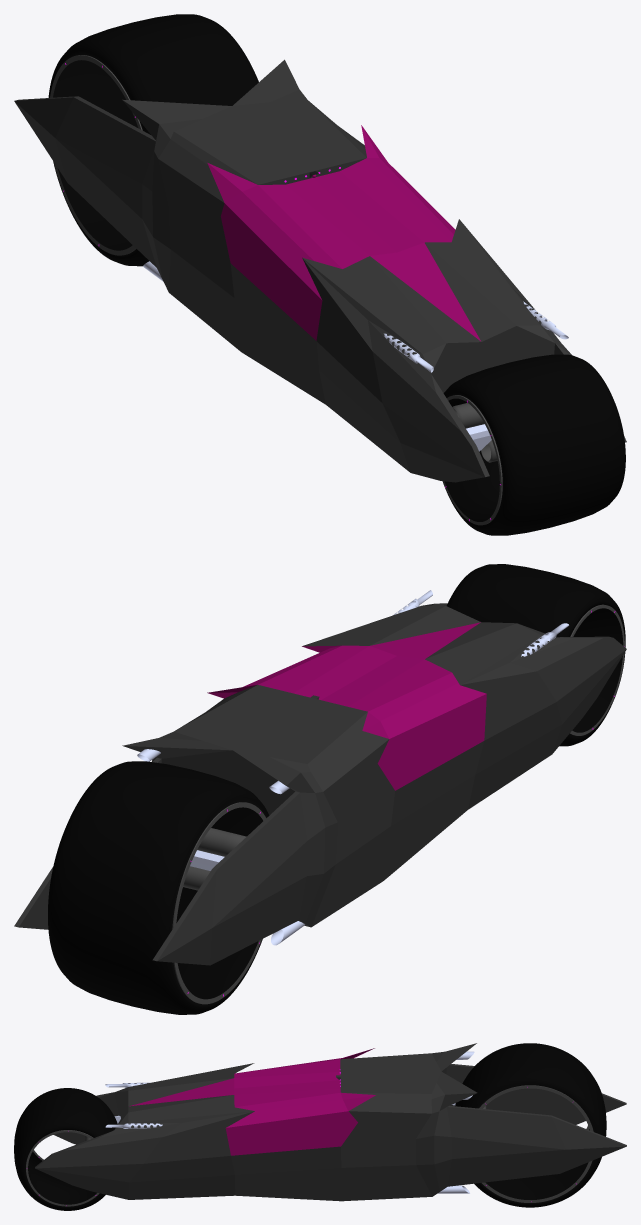
The model's file is Bike_P4.glb.
3 views of the same model, one above another, from view 1: azimuth 30°, elevation 25°; view 2: azimuth 150°, elevation 25°; view 3: azimuth 270°, elevation 25° (orthographic). The views are drawn at different scales.
Parts seen in each view (by area): view 1: Chassis, Tire_Front, Tire_Rear, Wheel_Well_Front.002, Guns, Wheel_Well_Front, Drive_Train_Cyl_F; view 2: Chassis, Tire_Rear, Tire_Front, Wheel_Well_Front.002, Drive_Train_Cyl_R, Exhausts, Guns; view 3: Chassis, Tire_Rear, Tire_Front, Wheel_Well_Front.002, Wheel_Well_Front, Guns, Exhausts.
Part boxes in pixels (<box>): Chassis: <box>14,59,626,482</box>; Tire_Front: <box>442,354,625,535</box>; Tire_Rear: <box>48,14,258,266</box>; Wheel_Well_Front.002: <box>50,55,142,255</box>; Guns: <box>384,301,568,372</box>; Wheel_Well_Front: <box>443,395,502,525</box>; Drive_Train_Cyl_F: <box>452,403,497,462</box>; Chassis: <box>14,603,626,965</box>; Tire_Rear: <box>48,761,269,1014</box>; Tire_Front: <box>446,564,625,746</box>; Wheel_Well_Front.002: <box>172,802,266,1004</box>; Drive_Train_Cyl_R: <box>183,828,246,890</box>; Exhausts: <box>137,749,304,945</box>; Guns: <box>392,590,568,656</box>; Chassis: <box>35,1043,626,1201</box>; Tire_Rear: <box>455,1043,606,1207</box>; Tire_Front: <box>14,1088,117,1210</box>; Wheel_Well_Front.002: <box>479,1085,593,1202</box>; Wheel_Well_Front: <box>26,1130,99,1206</box>; Guns: <box>105,1082,162,1128</box>; Exhausts: <box>438,1051,474,1193</box>.
Size of the model in its own units: 0.9789 by 1.21 by 4.74.
